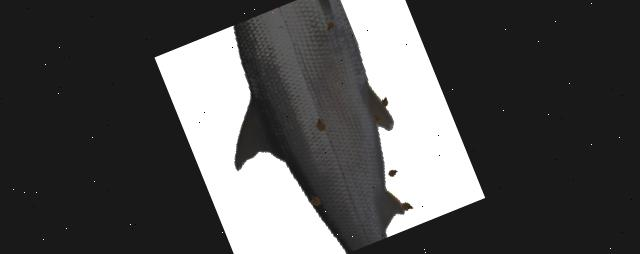Parasitic Disease: (235, 0, 412, 252)
